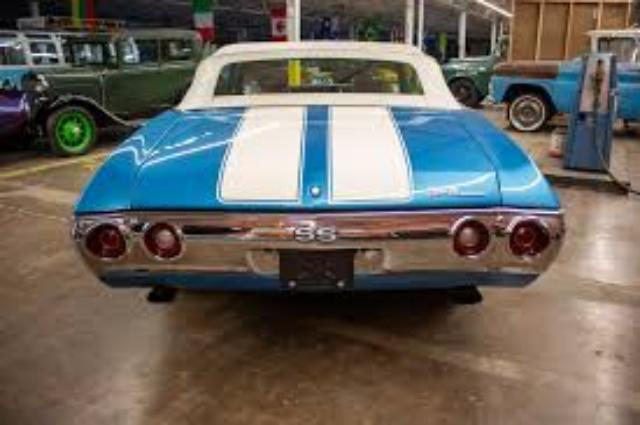chevelle-1972: (70, 40, 566, 300)
